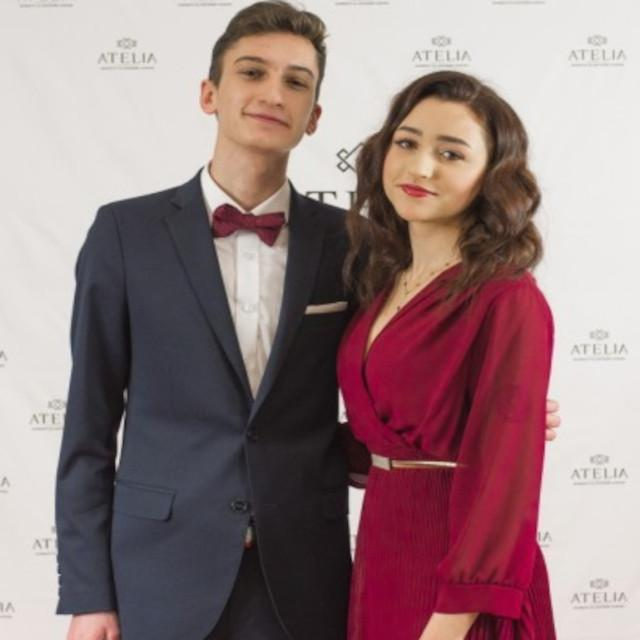kobieta: (344, 70, 561, 640)
mezczyzna: (61, 0, 354, 640)
